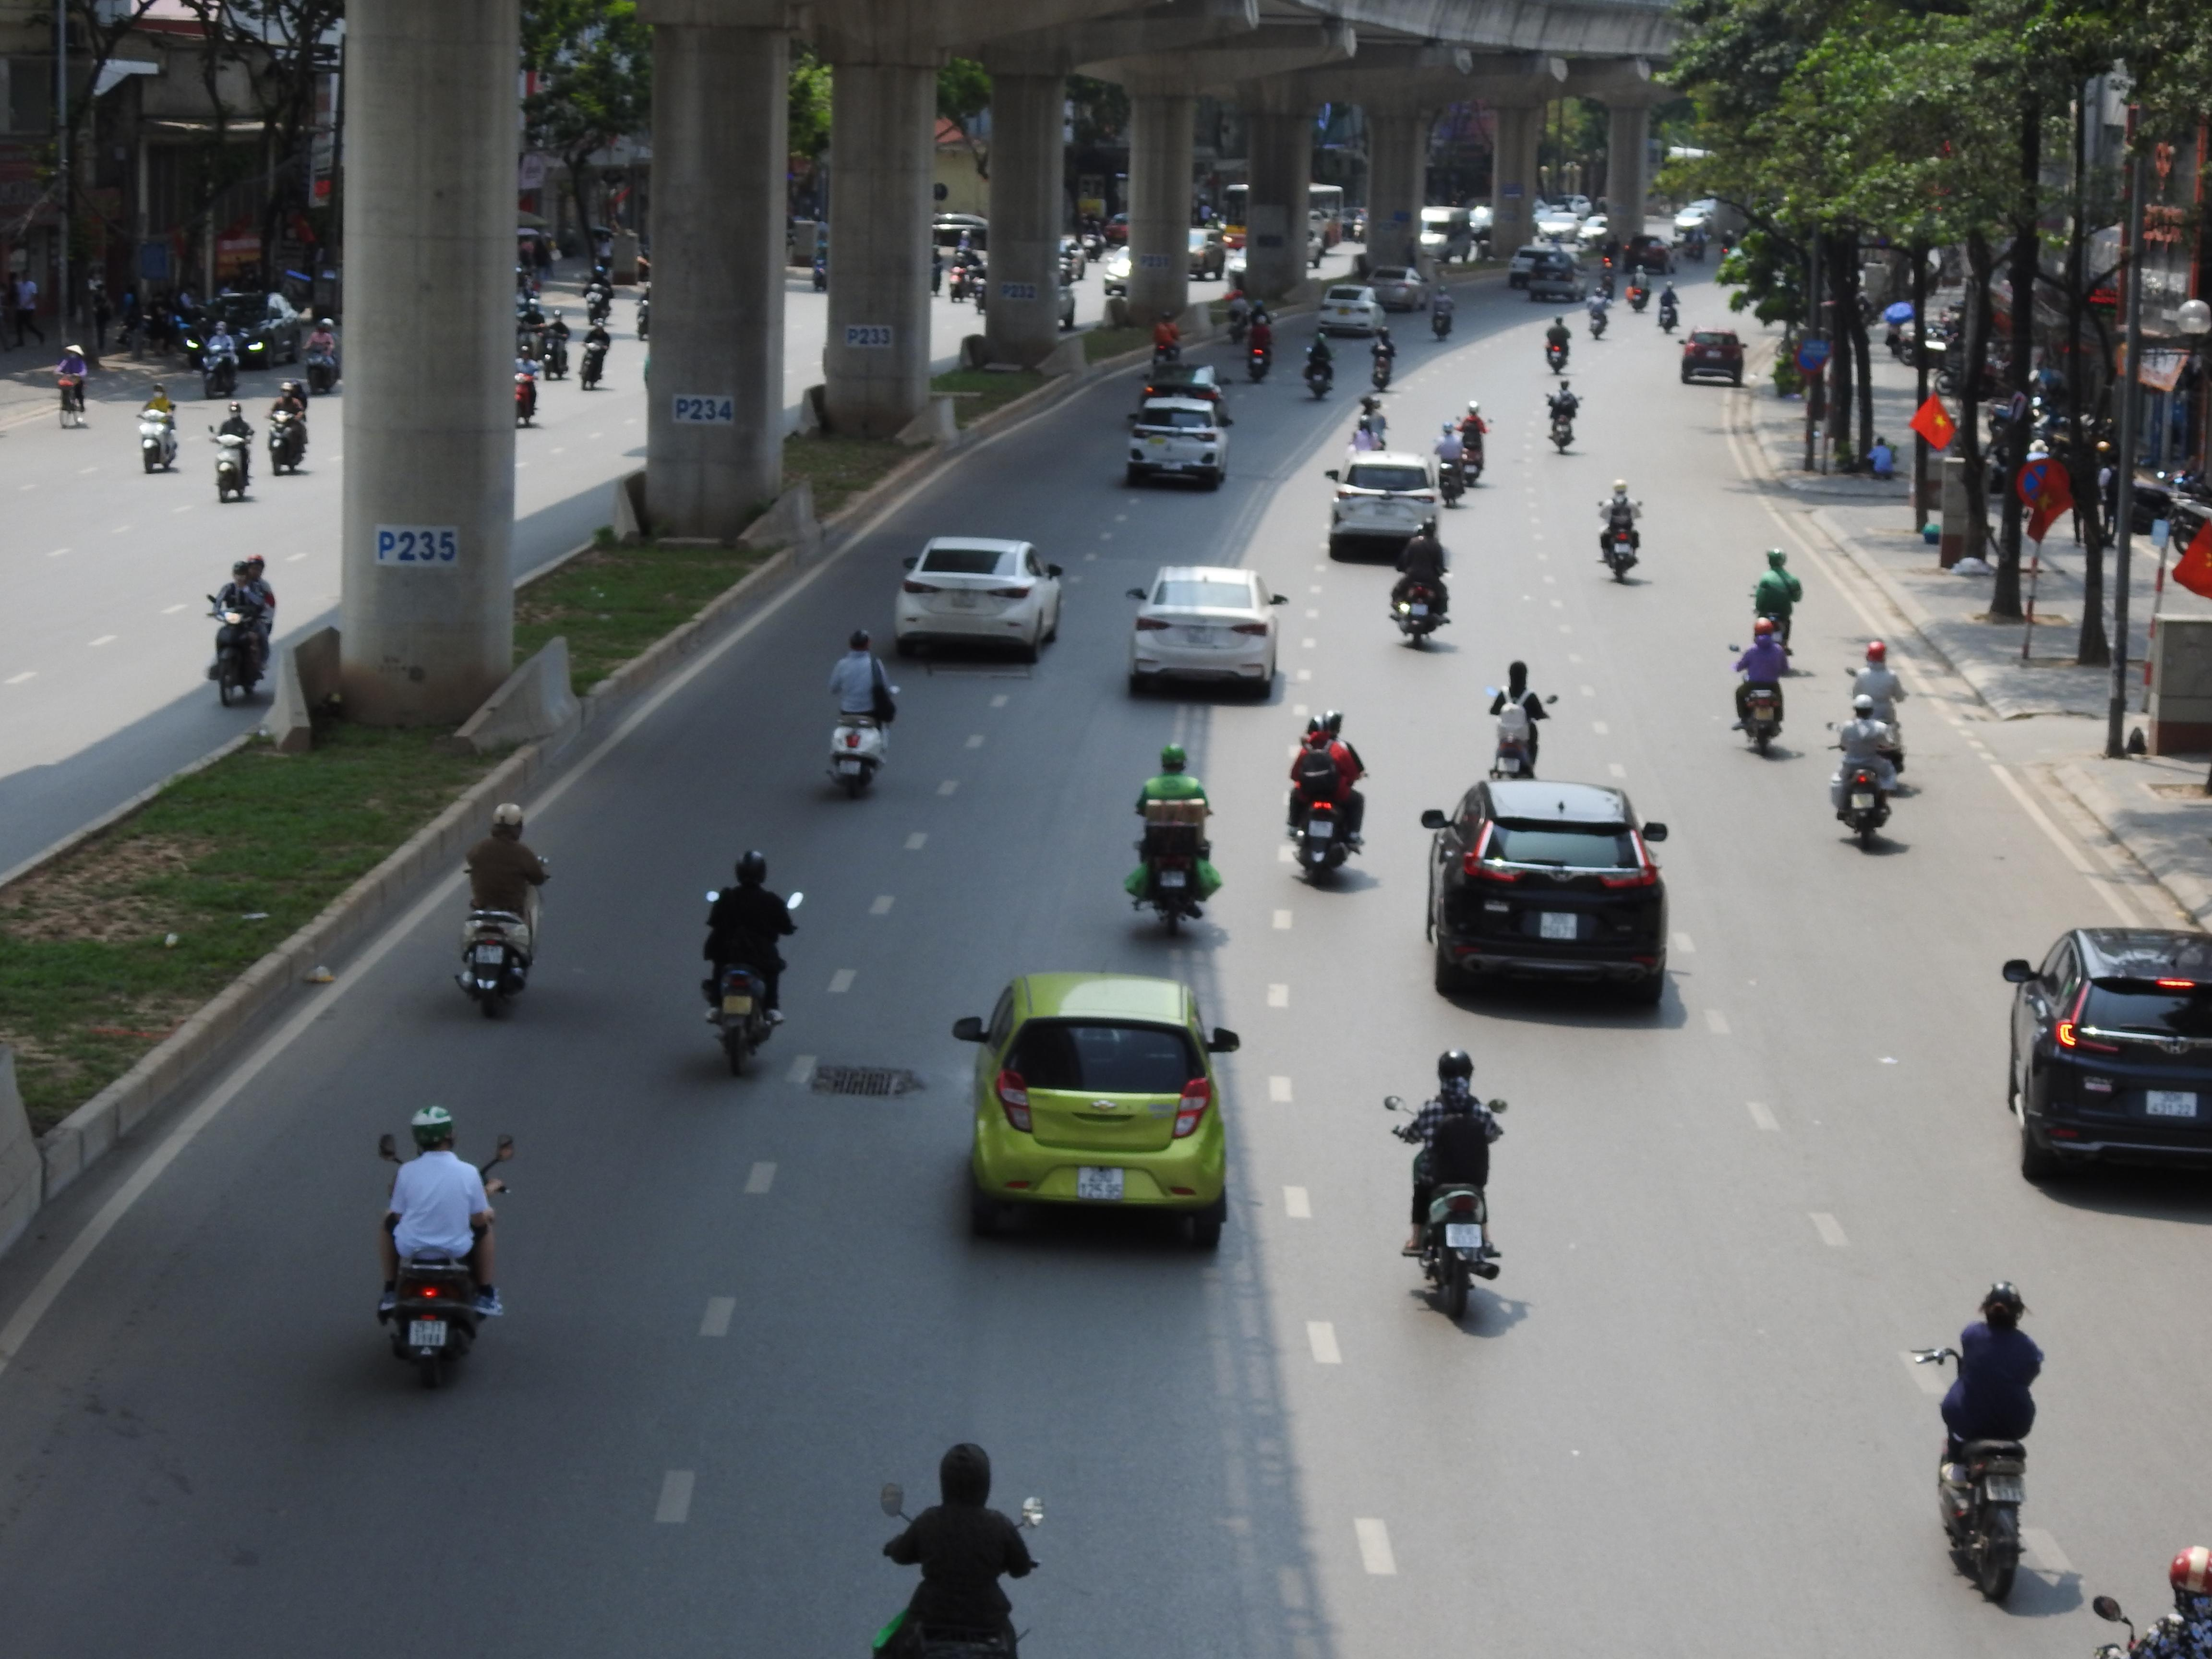BSV: (1076, 1168, 1125, 1201), (2146, 1091, 2196, 1119), (408, 1319, 446, 1347), (1986, 1476, 2026, 1502), (1538, 913, 1576, 939), (1446, 1223, 1480, 1249)
car: (951, 971, 1240, 1248), (1418, 777, 1670, 1007), (2001, 925, 2212, 1188), (1127, 565, 1287, 702), (894, 535, 1064, 664), (1325, 448, 1446, 561), (1123, 390, 1231, 490), (1507, 242, 1581, 303), (1679, 328, 1747, 387)
motorbike: (864, 1439, 1042, 1659), (1923, 1281, 2041, 1610), (376, 1101, 505, 1394), (1390, 1047, 1505, 1328), (700, 847, 794, 1079), (456, 803, 547, 1023), (1127, 742, 1219, 939), (1285, 711, 1367, 890), (2090, 1544, 2212, 1659), (826, 629, 897, 802), (1827, 690, 1900, 852), (207, 554, 275, 708), (1844, 640, 1911, 791), (1484, 659, 1555, 782), (1730, 615, 1791, 756), (1388, 519, 1451, 650), (1749, 549, 1804, 664), (1597, 477, 1644, 584), (211, 396, 256, 504), (265, 375, 310, 476), (136, 380, 181, 474), (1430, 416, 1472, 507), (1454, 401, 1491, 491), (54, 340, 91, 429), (199, 317, 237, 399), (535, 303, 573, 382), (578, 305, 613, 390), (1545, 376, 1581, 455), (305, 317, 340, 399), (1348, 392, 1393, 455), (1299, 329, 1336, 401), (1245, 312, 1275, 383), (1426, 279, 1456, 343), (1369, 324, 1397, 390), (1543, 314, 1573, 375), (1585, 279, 1611, 340), (1151, 312, 1179, 364)
